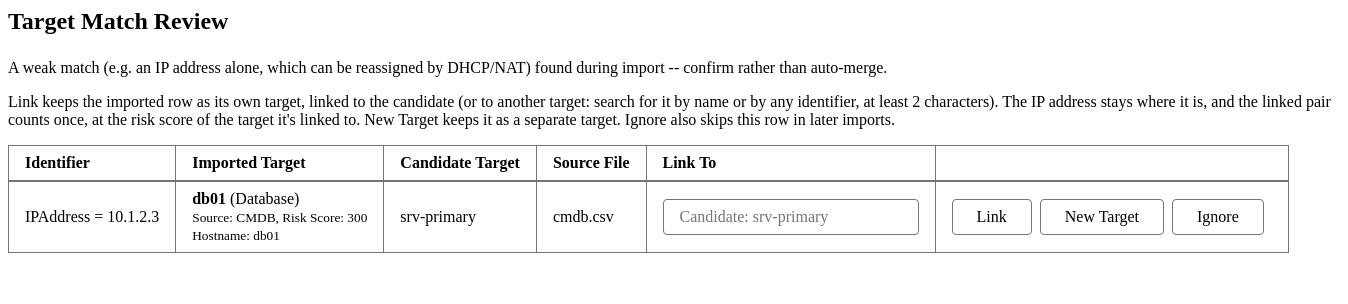
TargetMatchReview.vue › shows the server's reason when a resolution is refused
Click the button "Link".
click(992, 217)  # box [952,199,1032,235]
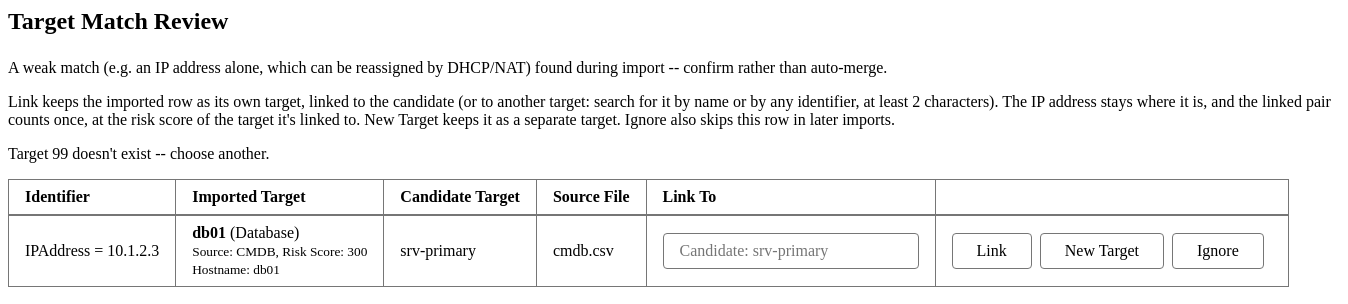
Expected: the message "Target 99 doesn't exist -- choose another." is shown, [8,145,269,162]
